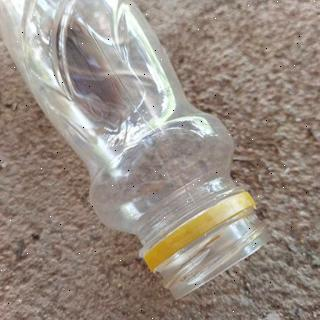Plastic-bottle: (1, 1, 275, 302)
